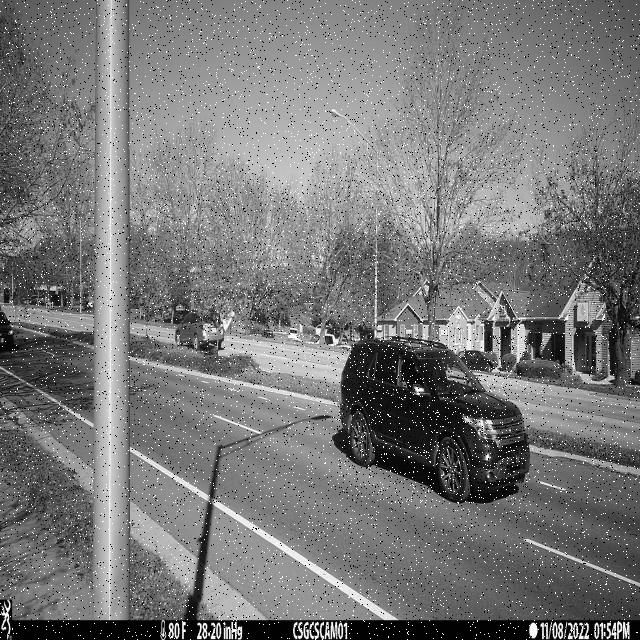SUV: (339, 336, 530, 504)
